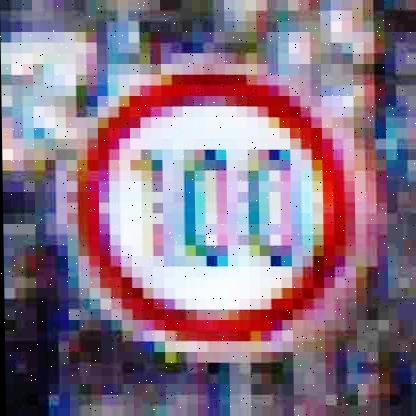Speed Limit -100-: (57, 63, 374, 361)
